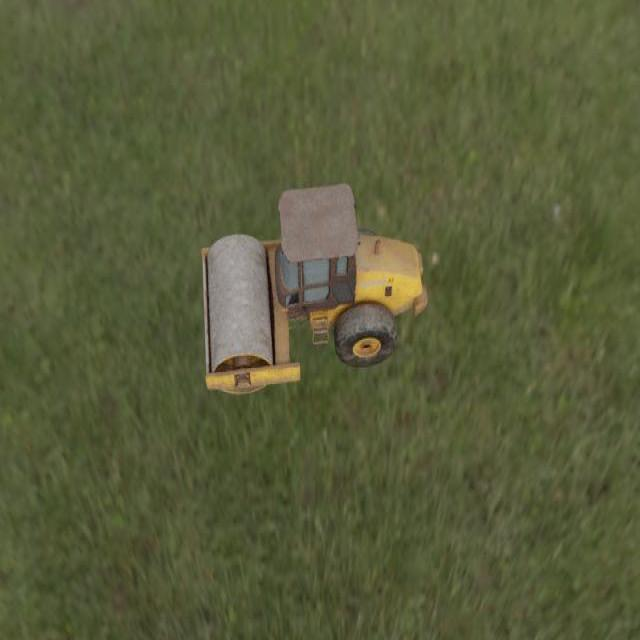Roller: (200, 183, 428, 393)
